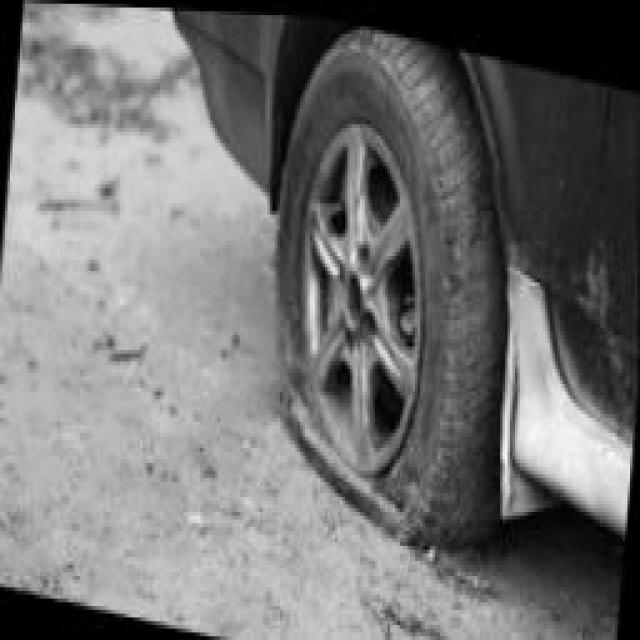Door: (558, 188, 638, 448)
